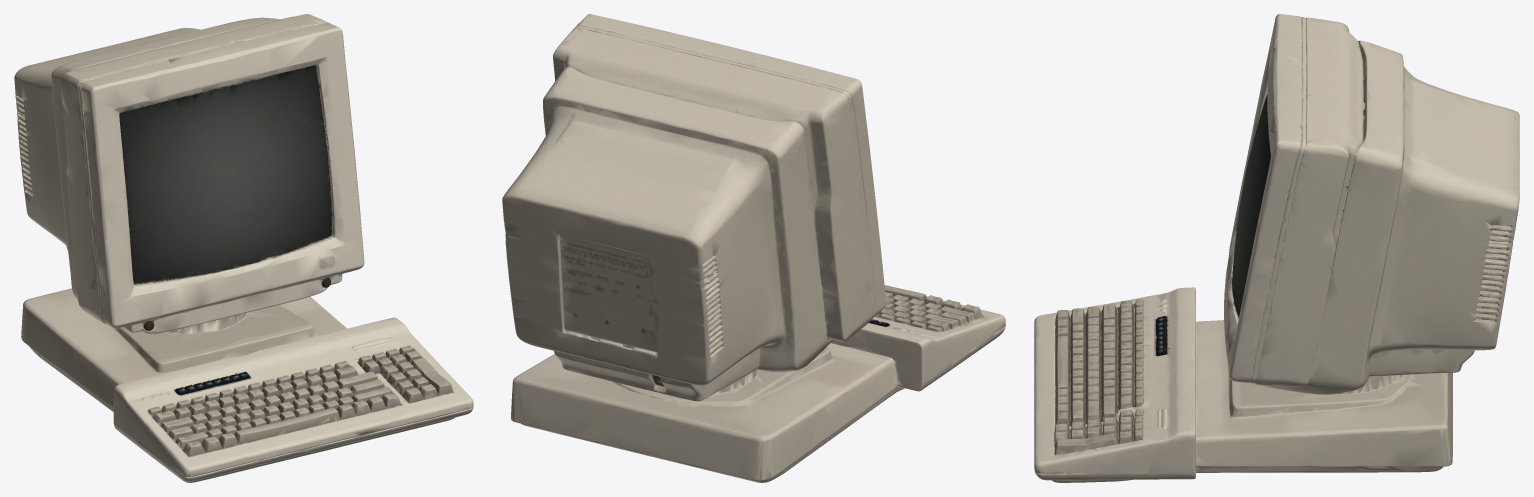
Rendered from computer.glb.
3 renders of one model, left to right at view 1: azimuth 30°, elevation 25°; view 2: azimuth 150°, elevation 25°; view 3: azimuth 270°, elevation 25°, orthographic. The views are drawn at different scales.
Size of the model in its own units: 1.4 by 1.46 by 1.9.
Materials: 1 (1 with a texture image).
